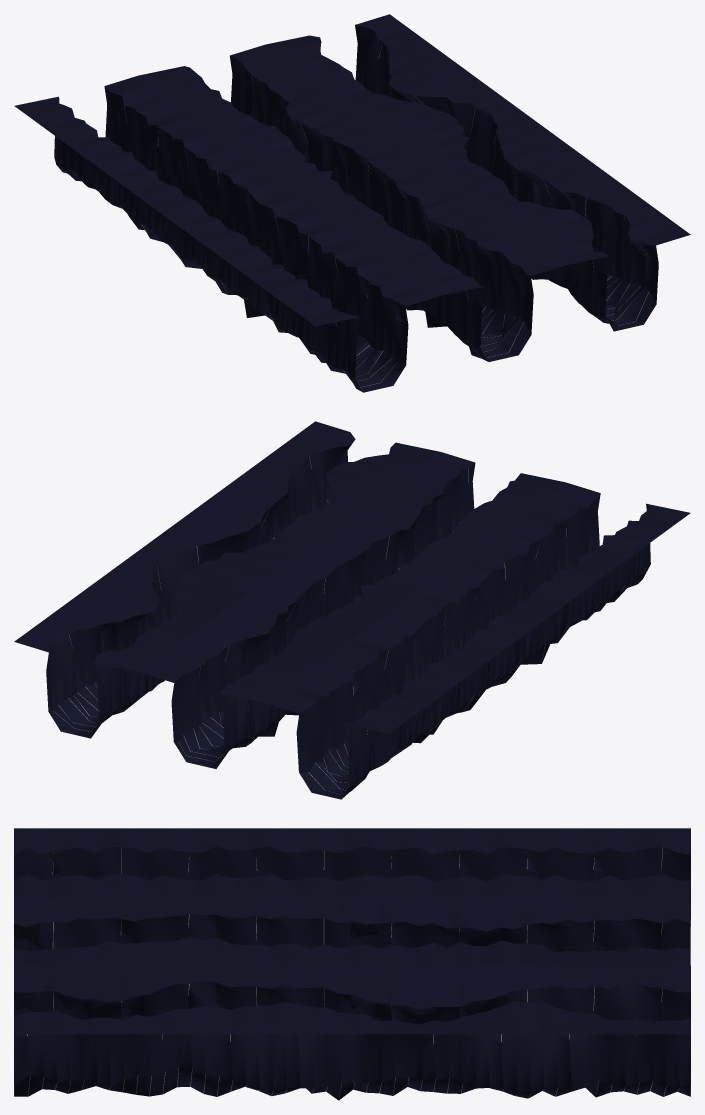
File: staight.FBX
3 views of the same model, one above another, from view 1: azimuth 30°, elevation 25°; view 2: azimuth 150°, elevation 25°; view 3: azimuth 270°, elevation 25° (orthographic). The views are drawn at different scales.
Parts seen in each view (by area): view 1: straight003, straight001, straight002; view 2: straight003, straight002, straight001; view 3: straight002, straight003, straight001.
Boxes of the visible parts, <box> form: straight003: <box>14,75,440,392</box>; straight001: <box>140,45,565,361</box>; straight002: <box>265,14,690,331</box>; straight003: <box>265,482,690,799</box>; straight002: <box>14,421,439,738</box>; straight001: <box>140,452,565,769</box>; straight002: <box>14,965,690,1100</box>; straight003: <box>14,828,690,926</box>; straight001: <box>14,897,690,965</box>.
Bounding box in the file's own units: 4.57 × 0.9882 × 6.35.
